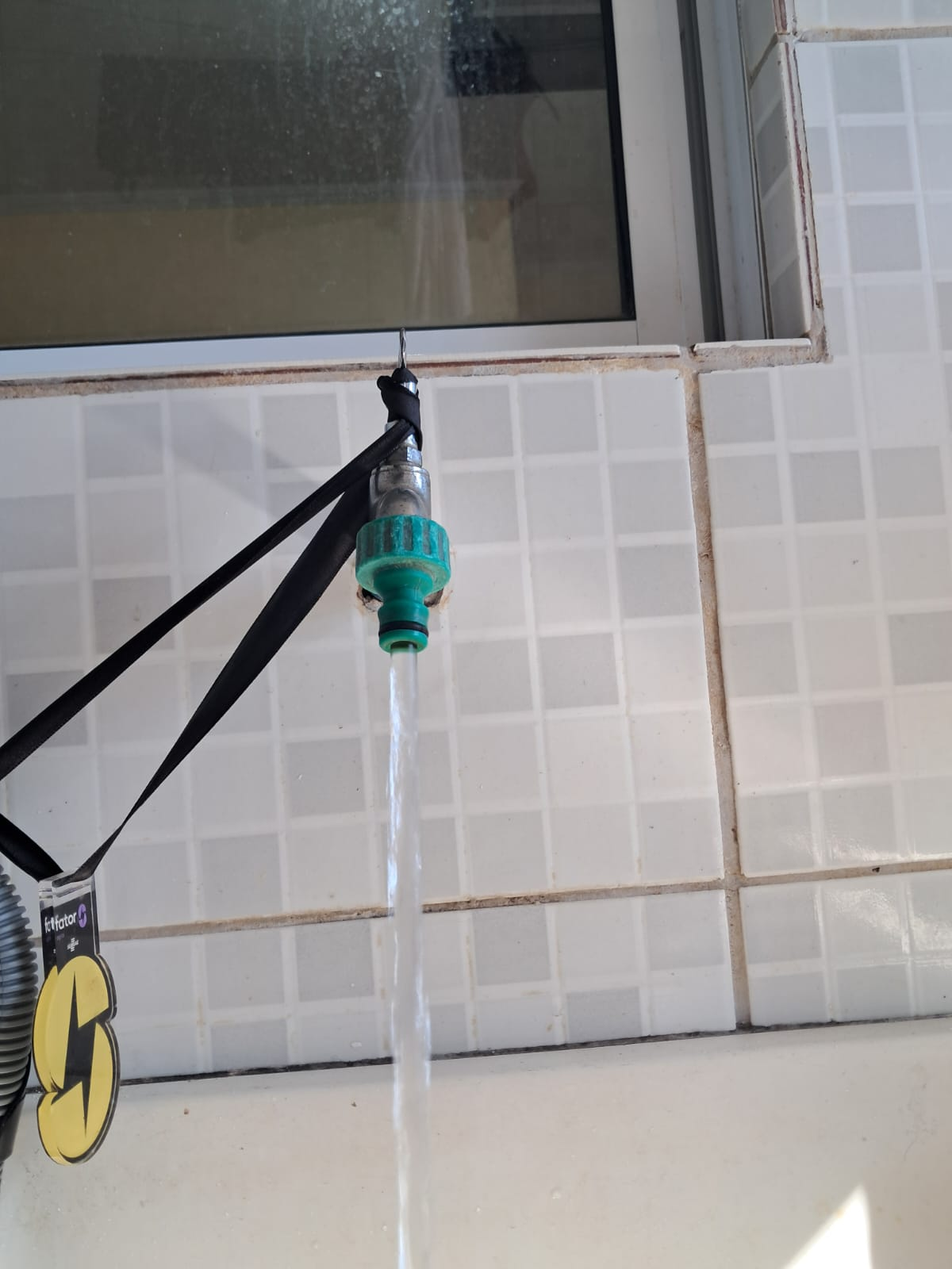torneira_aberta: (320, 314, 491, 921)
